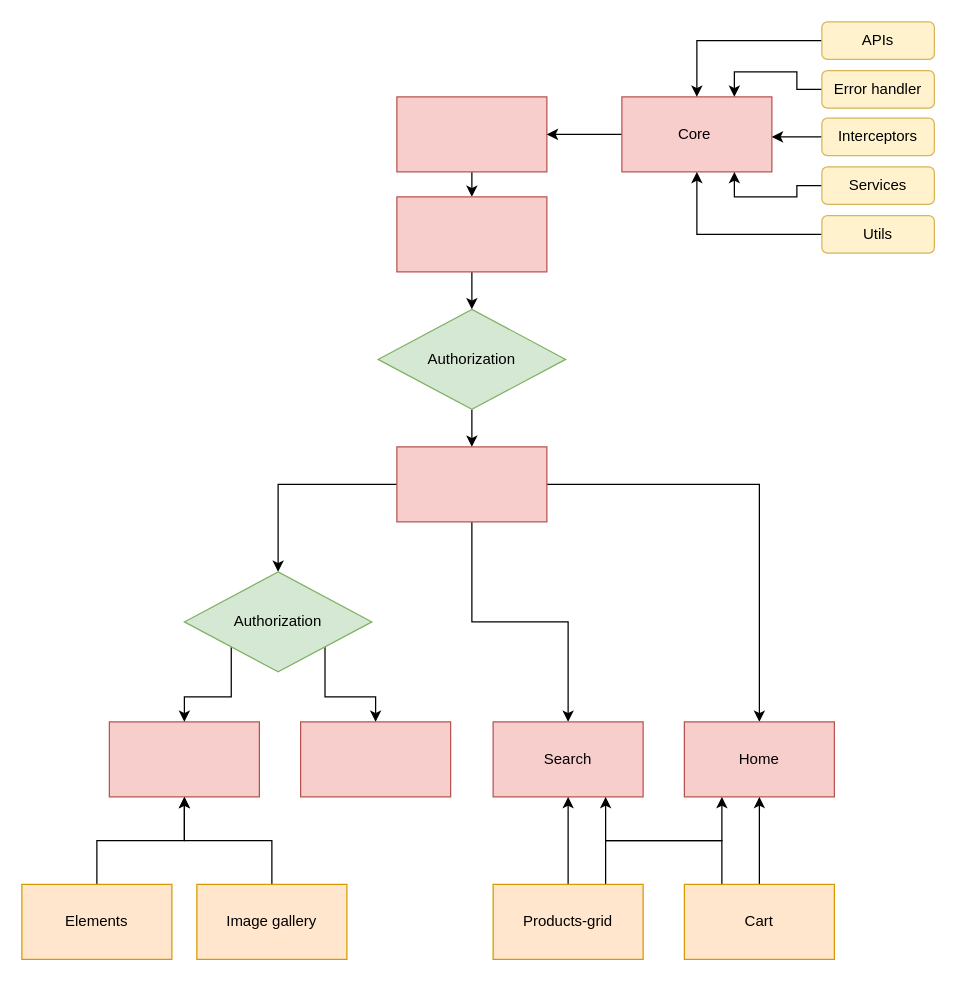
Image size: 956x981. Some labels were removed from this diagram. The centre of each missing label's shape, as x and y in pixels:
Admin-product: (183,759)
Admin-products: (375,759)
App: (471,134)
Auth: (471,234)
Layout: (471,484)
